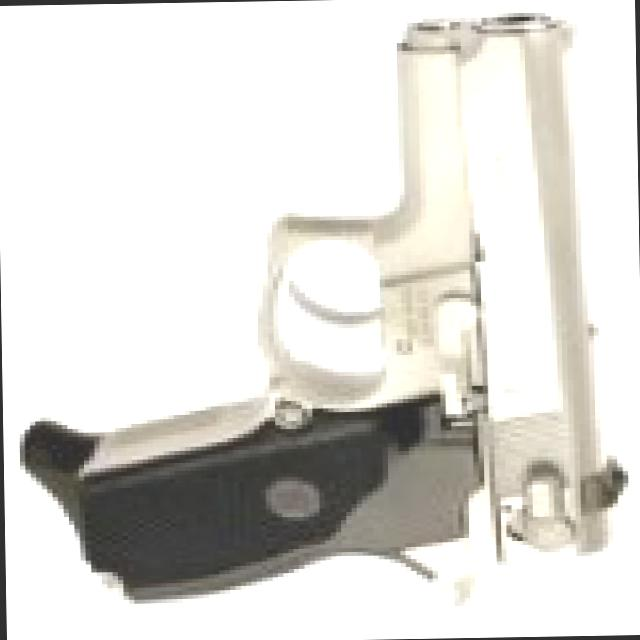handgun: (16, 6, 634, 618)
